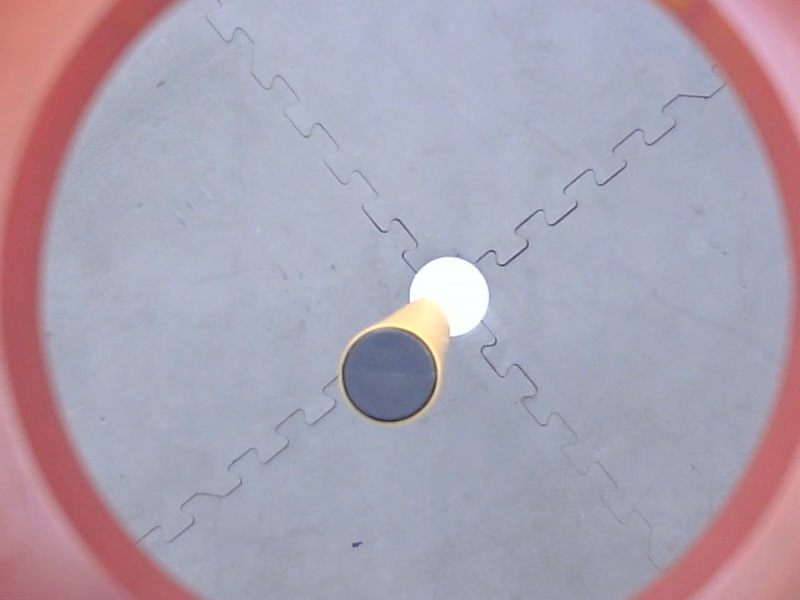tip: (335, 322, 447, 434)
